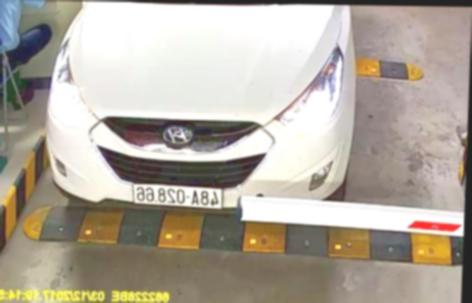License_Plate: (132, 179, 228, 210)
